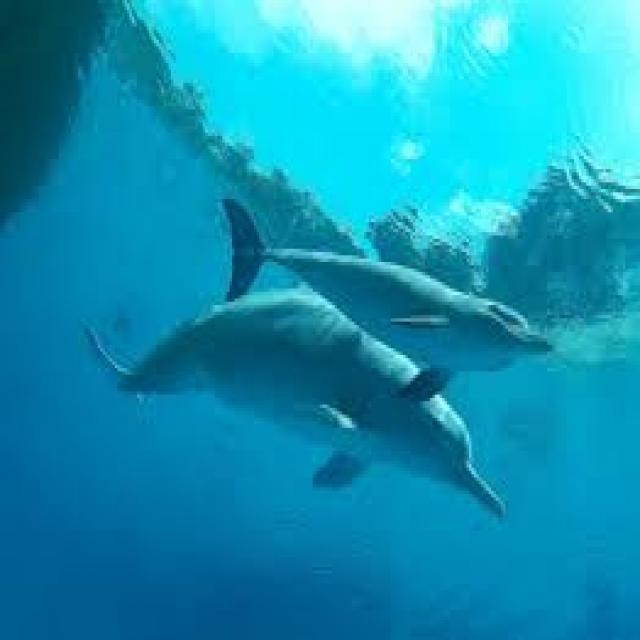dolphin: (80, 289, 522, 600), (222, 189, 633, 398)
